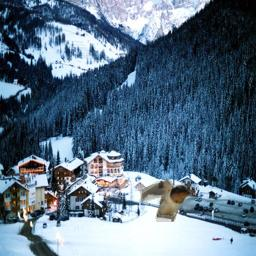Swallow: (139, 179, 192, 222)
